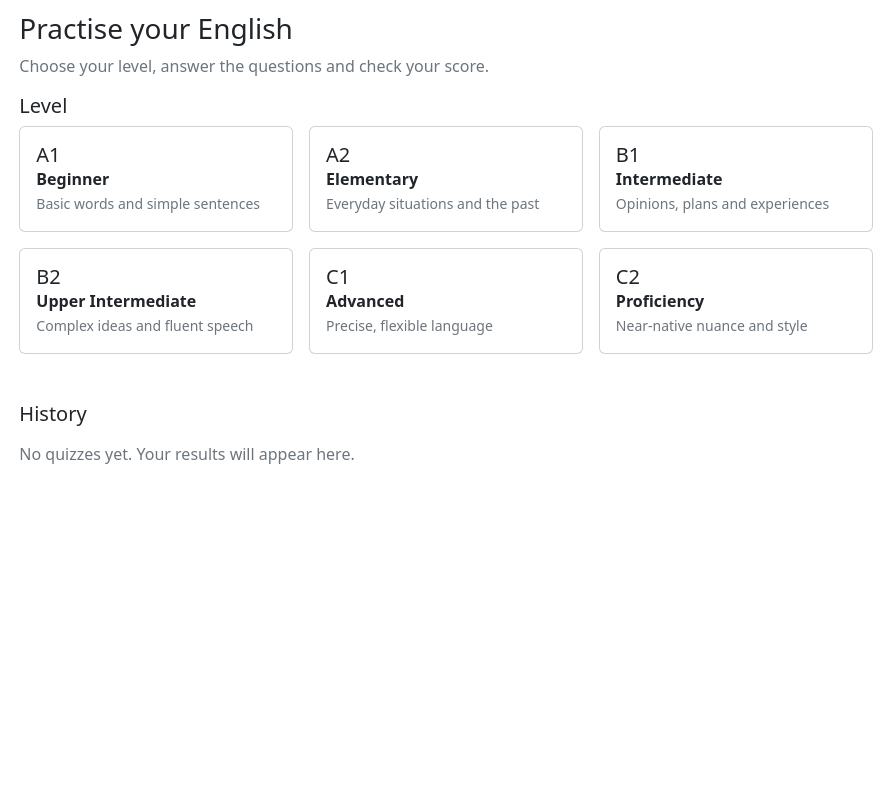
Test: QuizSetupPage topic filter › keeps the topics in a closed accordion until the user opens it, summarising the selection
What coordinates should you click on to do the following:
click the radio button labelled "A1 Beginner Basic words and simple sentences"
I would click on:
 (156, 179)
Its box is [19,126,293,232].
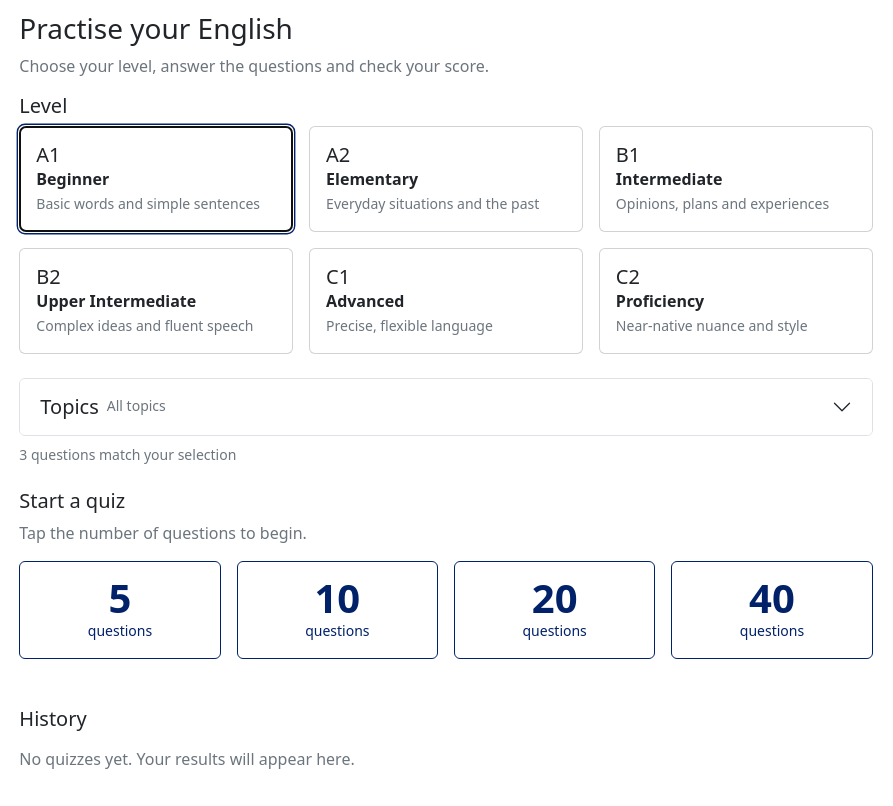
Now the button "Topics All topics" is shown
What coordinates should you click on to do the following:
click the button "Topics All topics"
I would click on:
 (70, 406)
Its box is [20,379,872,435].
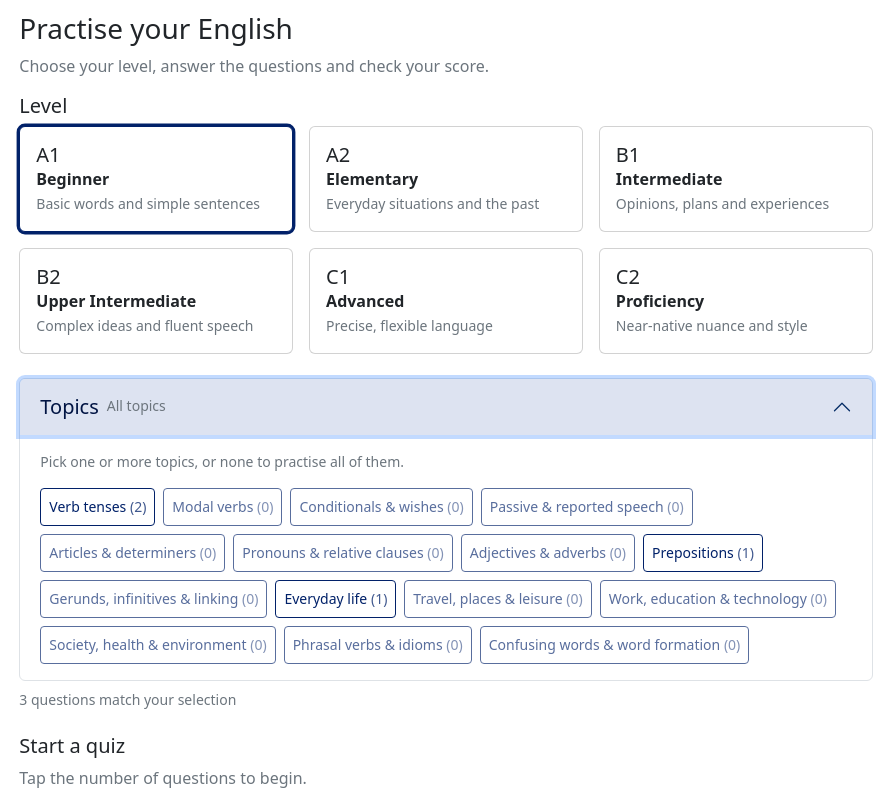
Now the button "Topics All topics" is expanded, box [20,379,872,435]
What coordinates should you click on to do the following:
click the button "Everyday life (1)"
I would click on:
 (336, 599)
Its box is [275,580,396,618].
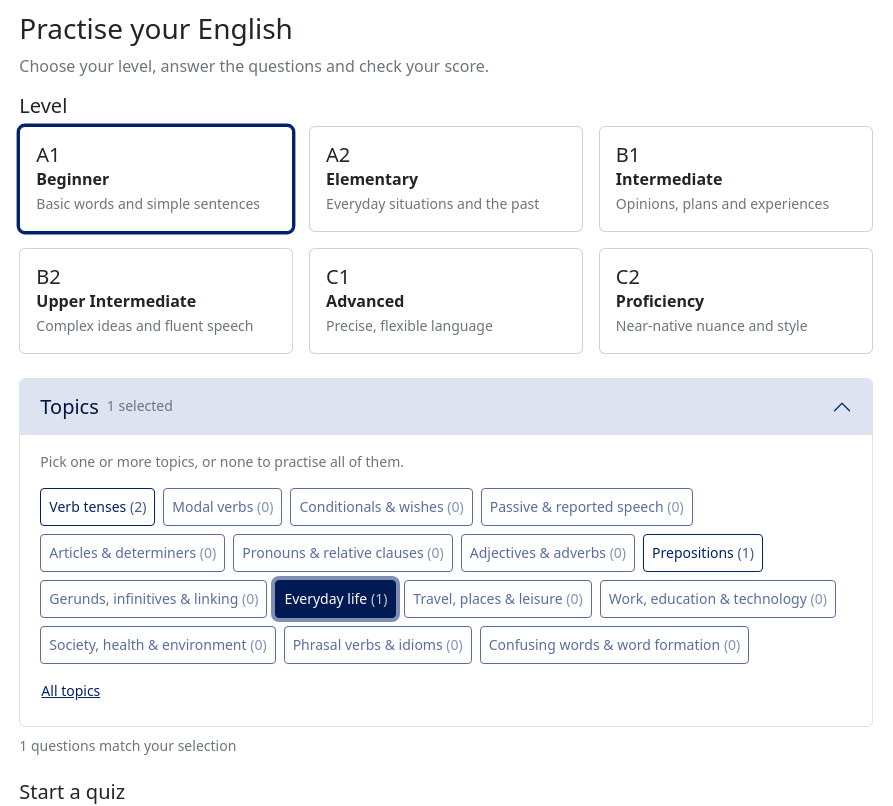
Now the button "Topics 1 selected" is shown, box [20,379,872,435]
